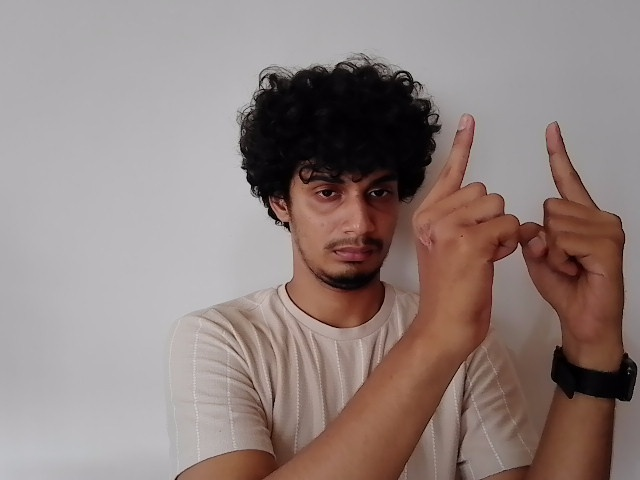play: (409, 110, 628, 345)
